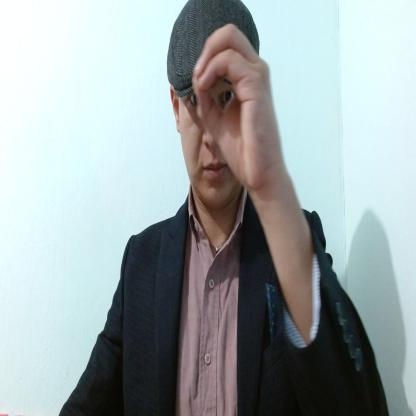O: (193, 22, 277, 195)
